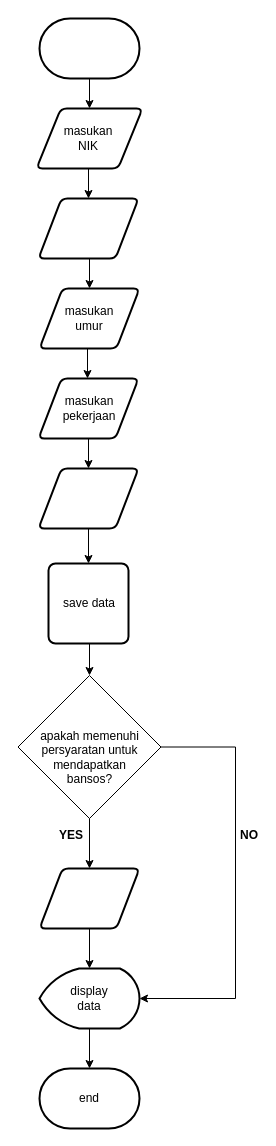
Some shapes in this 276 by 1146 pixel diagram are drawn without their labels. The shapes that lost their labels are listed below. From the top down, each one's box as (x1, y1, x2, y2) in pixels, then its label:
(38, 17, 140, 79): start
(37, 197, 139, 259): masukan nama
(37, 467, 139, 529): masukan gaji
(38, 867, 140, 929): masukan no rekening
